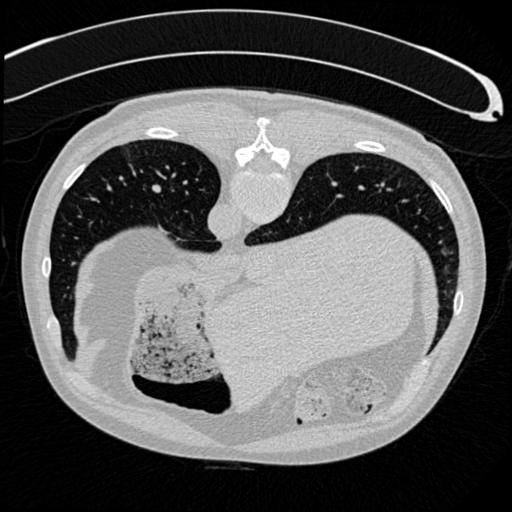nodule: (149, 182, 166, 199)
